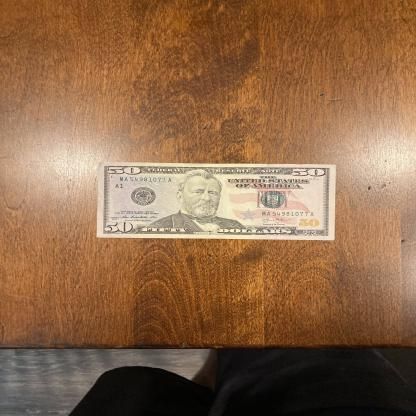fifty-front: (97, 162, 336, 240)
